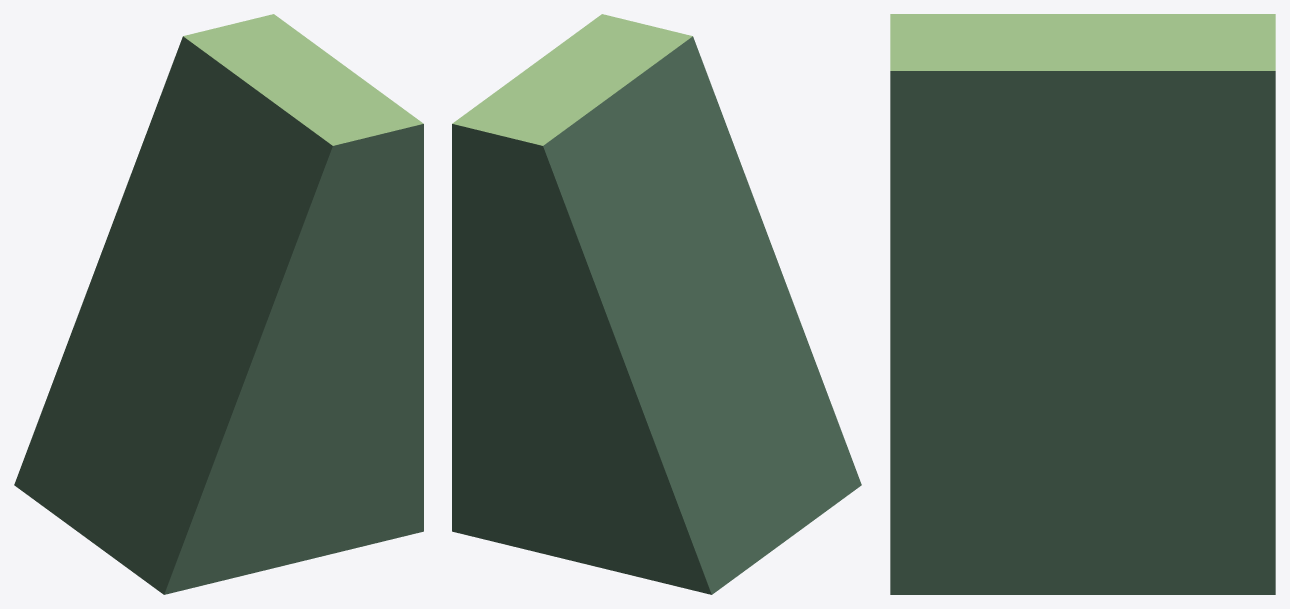
File: GroundEdge01.fbx
The picture shows the model from 3 angles, left to right: view 1: azimuth 30°, elevation 25°; view 2: azimuth 150°, elevation 25°; view 3: azimuth 270°, elevation 25°; orthographic projection. The views are drawn at different scales.
Visible parts, largest first — view 1: Cube.003; view 2: Cube.003; view 3: Cube.003.
Part boxes in pixels (bbox=[...]): Cube.003: bbox=[14, 14, 423, 594]; Cube.003: bbox=[452, 14, 861, 594]; Cube.003: bbox=[890, 14, 1275, 594].
Size of the model in its own units: 100 by 150 by 100.
